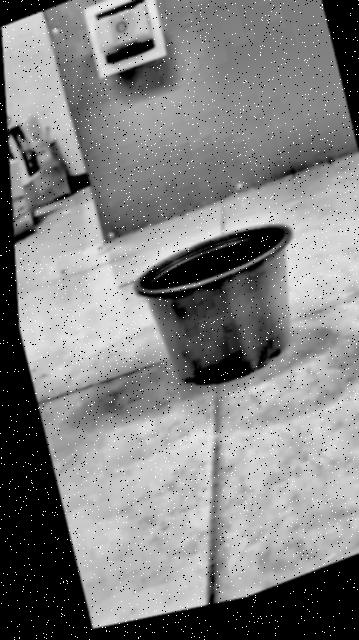pot: (133, 225, 291, 385)
